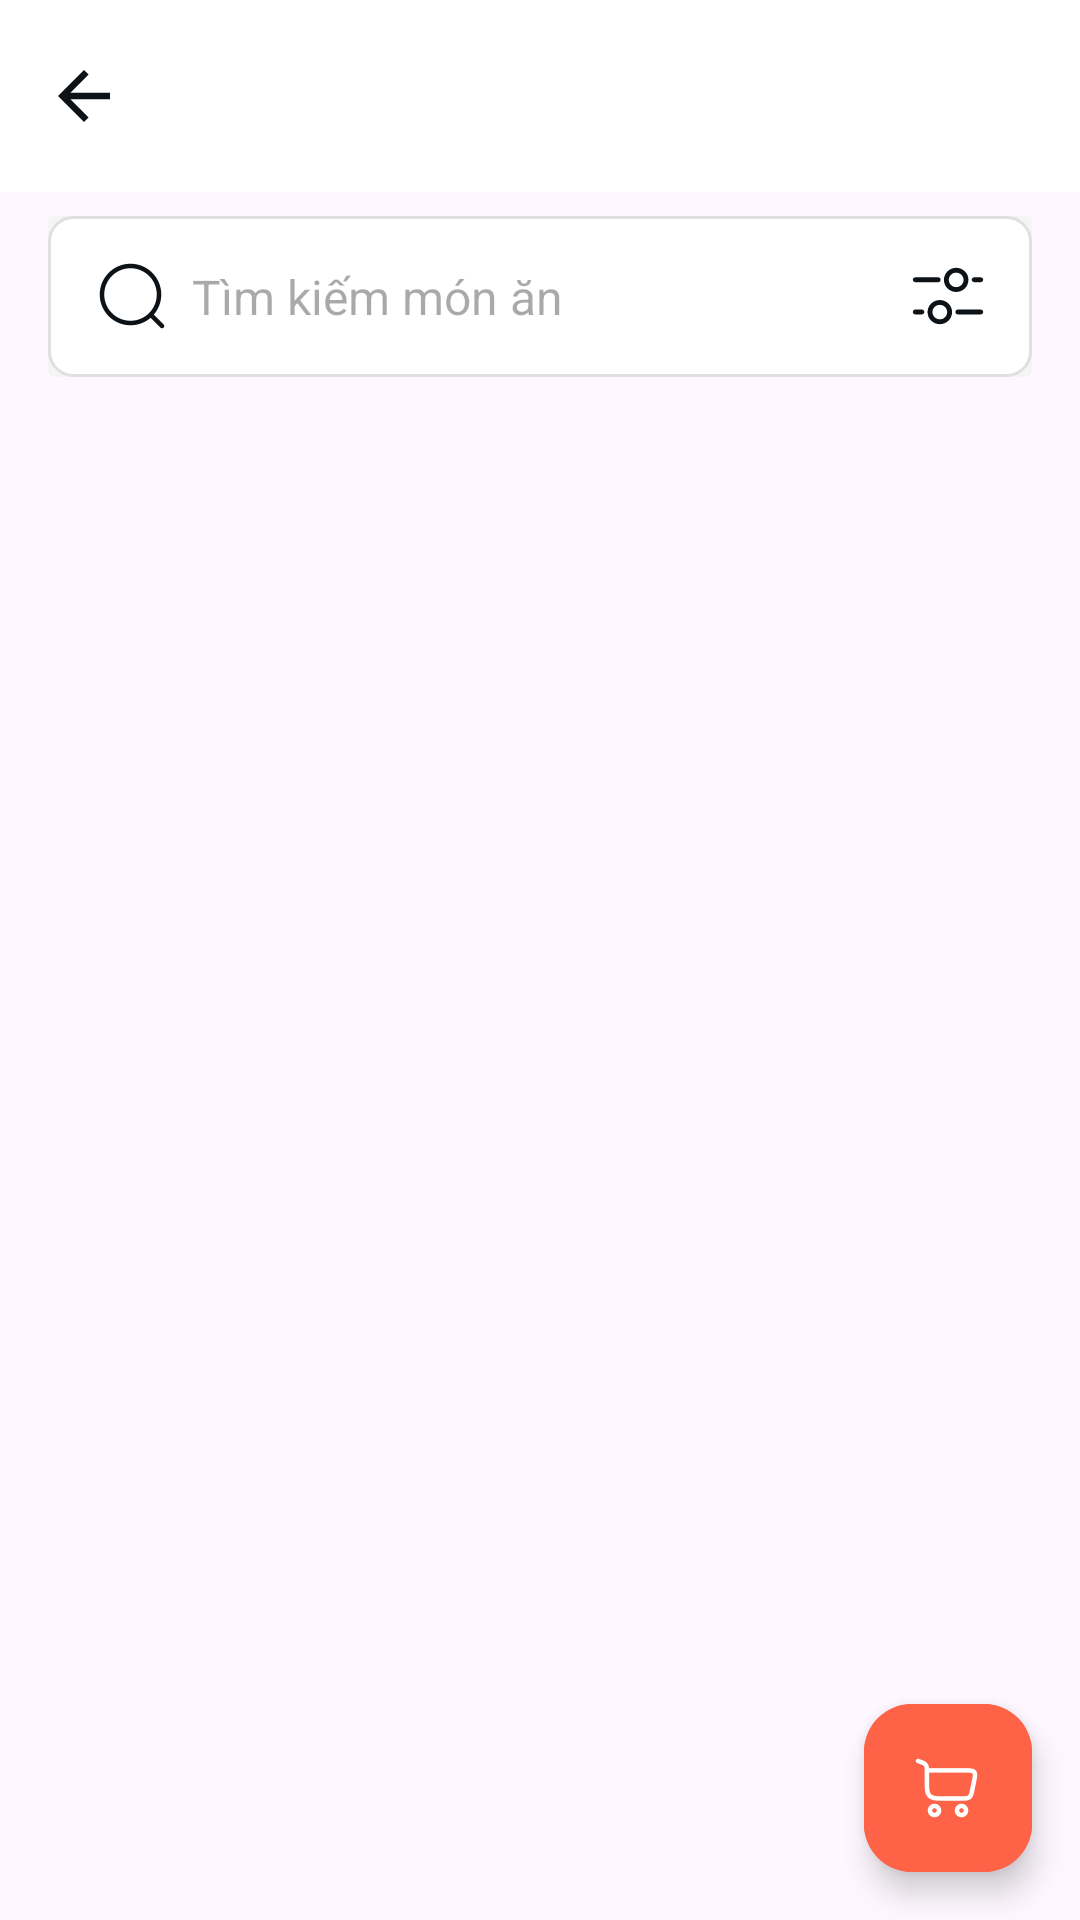

Locate icon controls on the screen. Image size 1080 x 1920, boxes as (x1, y1, x2, y2).
cart: (864, 1704, 1032, 1872)
Filter icon: (912, 267, 984, 325)
Search icon: (99, 263, 165, 329)
